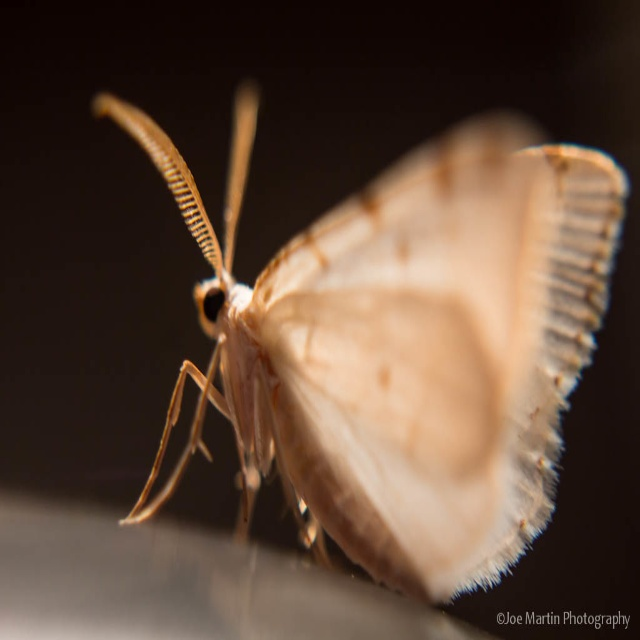Butterfly: (104, 82, 576, 640)
